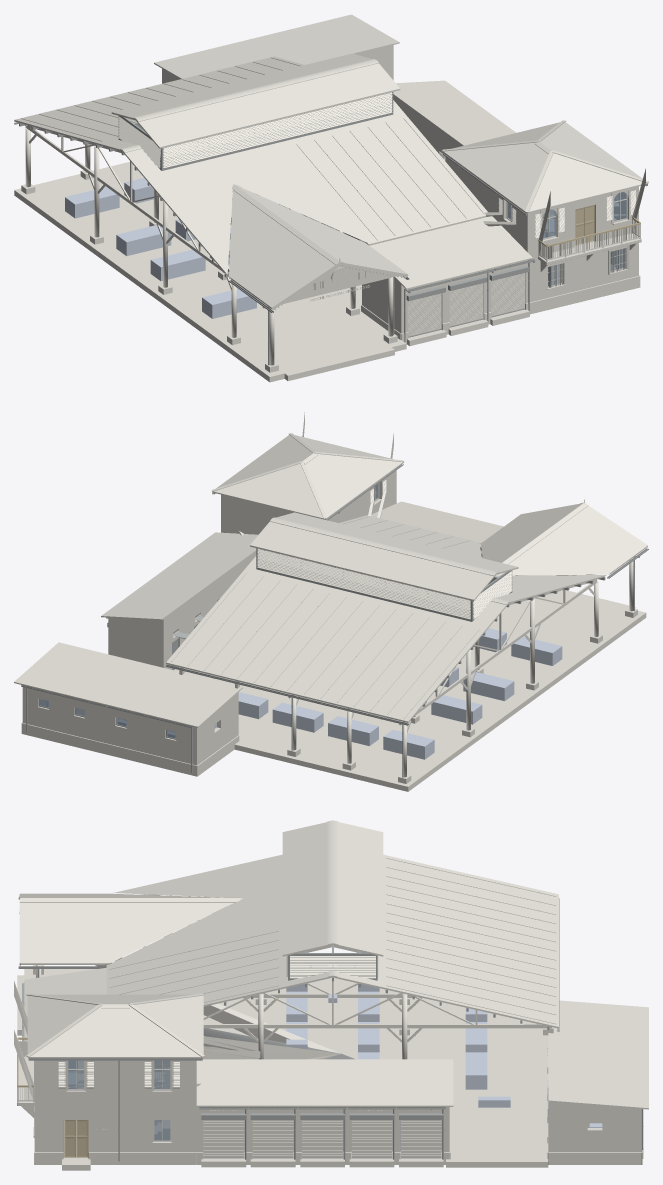
Rendered from fond_h06.glb.
3 renders of one model, top to bottom at view 1: azimuth 30°, elevation 25°; view 2: azimuth 150°, elevation 25°; view 3: azimuth 270°, elevation 25°, orthographic. The views are drawn at different scales.
Visible parts, largest first — view 1: Roofs_Corrugated, Floor_Hall_Lane_Pavers, Walls_Office_Exterior, Det_shutter_paint, Det_corrugated_rust, Walls_Shops_WC_Exterior, Columns_CastIron, Column_Bases, Det_new_castiron_green_worn, Plinth_Basalt, Trusses_CastIron, DoorRoll_02 (+13 smaller); view 2: Roofs_Corrugated, Floor_Hall_Lane_Pavers, Walls_Shops_WC_Exterior, Det_corrugated_rust, Det_shutter_paint, Walls_Office_Exterior, Plinth_Basalt, Columns_CastIron, Det_galvanized_steel, Trusses_CastIron, Column_Bases, Lantern_Frame (+7 smaller); view 3: Roofs_Corrugated, Floor_Hall_Lane_Pavers, Walls_Office_Exterior, Det_corrugated_rust, Walls_Shops_WC_Exterior, Det_shutter_paint, Column_Bases, Plinth_Basalt, Trusses_CastIron, Det_new_castiron_green_worn, Det_galvanized_steel, DoorRoll_05 (+16 smaller).
Part boxes in pixels (<box>): Roofs_Corrugated: <box>14,14,648,308</box>; Floor_Hall_Lane_Pavers: <box>14,155,406,382</box>; Walls_Office_Exterior: <box>450,160,638,302</box>; Det_shutter_paint: <box>118,92,636,238</box>; Det_corrugated_rust: <box>21,57,648,264</box>; Walls_Shops_WC_Exterior: <box>162,45,527,333</box>; Columns_CastIron: <box>25,128,640,365</box>; Column_Bases: <box>21,169,529,380</box>; Det_new_castiron_green_worn: <box>29,134,645,310</box>; Plinth_Basalt: <box>361,275,640,343</box>; Trusses_CastIron: <box>26,125,342,272</box>; DoorRoll_02: <box>448,276,487,327</box>; Roofs_Corrugated: <box>14,435,647,727</box>; Floor_Hall_Lane_Pavers: <box>176,591,646,791</box>; Walls_Shops_WC_Exterior: <box>22,550,481,765</box>; Det_corrugated_rust: <box>171,433,588,718</box>; Det_shutter_paint: <box>238,480,512,619</box>; Walls_Office_Exterior: <box>221,470,396,534</box>; Plinth_Basalt: <box>21,722,239,776</box>; Columns_CastIron: <box>293,557,633,777</box>; Det_galvanized_steel: <box>21,464,648,777</box>; Trusses_CastIron: <box>181,551,597,722</box>; Column_Bases: <box>179,590,637,783</box>; Lantern_Frame: <box>178,548,512,667</box>; Roofs_Corrugated: <box>20,822,648,1109</box>; Floor_Hall_Lane_Pavers: <box>24,969,548,1158</box>; Walls_Office_Exterior: <box>35,1060,196,1152</box>; Det_corrugated_rust: <box>19,820,556,1057</box>; Walls_Shops_WC_Exterior: <box>196,1102,641,1152</box>; Det_shutter_paint: <box>34,955,378,1088</box>; Column_Bases: <box>17,965,553,1170</box>; Plinth_Basalt: <box>34,1057,642,1164</box>; Trusses_CastIron: <box>146,894,551,1028</box>; Det_new_castiron_green_worn: <box>14,893,422,1124</box>; Det_galvanized_steel: <box>18,873,643,1161</box>; DoorRoll_05: <box>250,1113,295,1158</box>.
Size of the model in its own units: 26.03 by 10.13 by 35.37.
